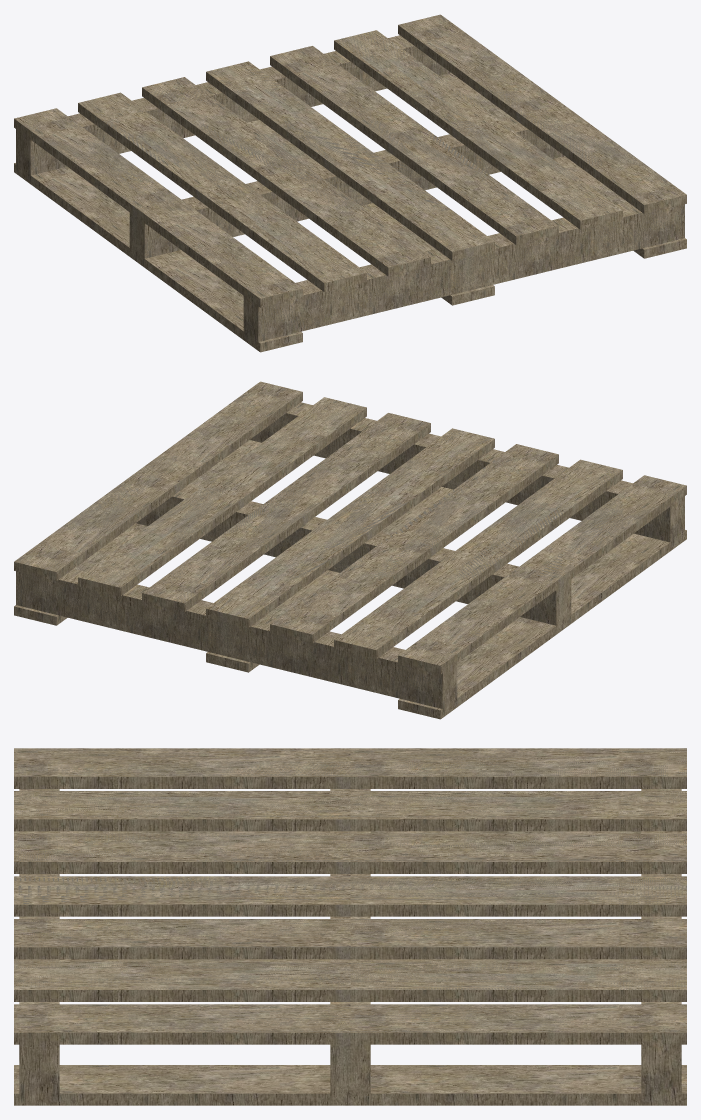
Rendered from Pallet.fbx.
3 views of the same model, one above another, from view 1: azimuth 30°, elevation 25°; view 2: azimuth 150°, elevation 25°; view 3: azimuth 270°, elevation 25° (orthographic). The views are drawn at different scales.
Visible parts, largest first — view 1: Model; view 2: Model; view 3: Model.
Part boxes in pixels (x1,y1,x2,y2): Model: [14, 14, 686, 352]; Model: [14, 381, 686, 719]; Model: [14, 748, 686, 1105].
Size of the model in its own units: 49.21 by 5.91 by 49.21.
